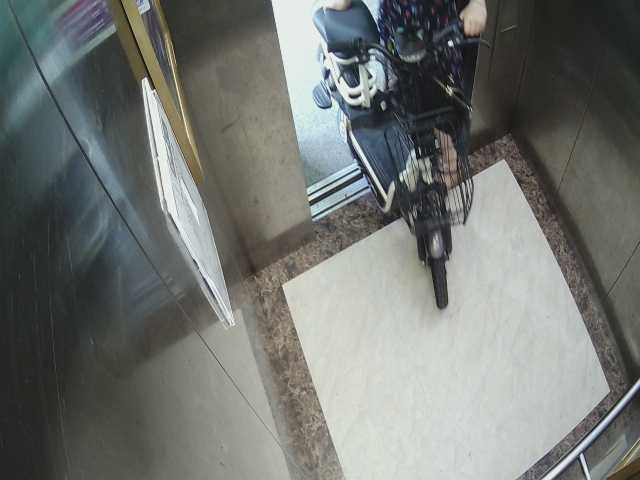emotor: (307, 4, 480, 306)
